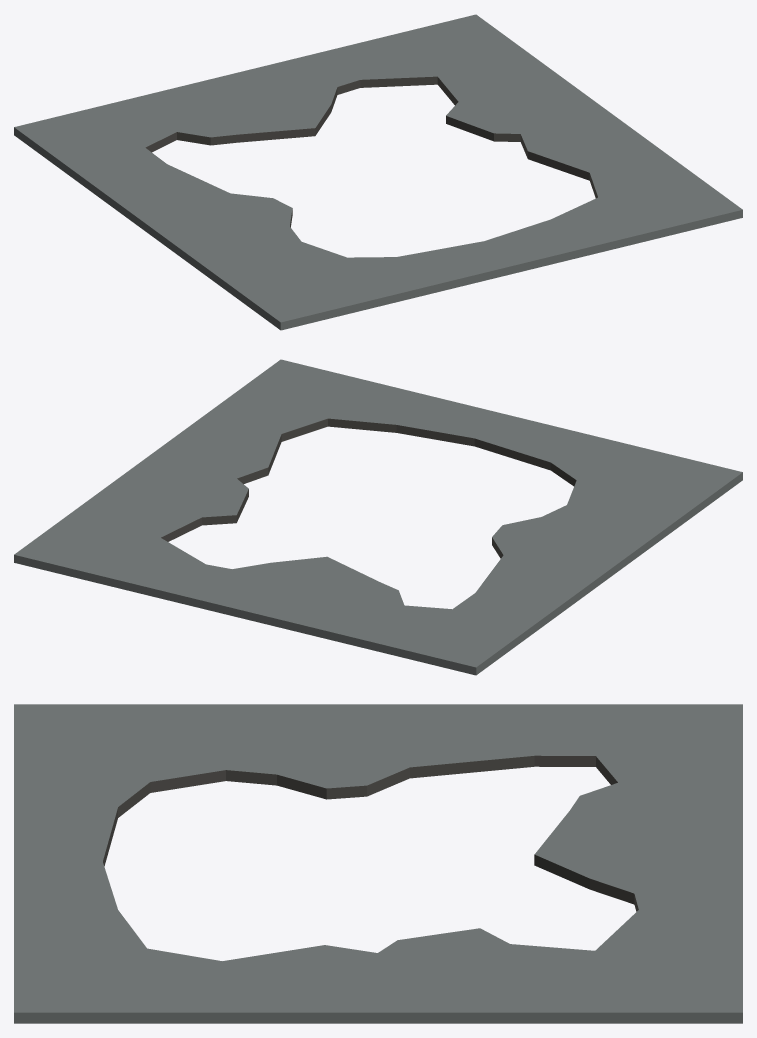
File: SM_Floor_Broken_3x3_C.gltf
3 views of the same model, one above another, from view 1: azimuth 30°, elevation 25°; view 2: azimuth 150°, elevation 25°; view 3: azimuth 270°, elevation 25° (orthographic). The views are drawn at different scales.
Visible parts, largest first — view 1: SM_Floor_Broken_3x3_C; view 2: SM_Floor_Broken_3x3_C; view 3: SM_Floor_Broken_3x3_C.
Part boxes in pixels (x1=…): SM_Floor_Broken_3x3_C: x1=14, y1=14, x2=742, y2=330; SM_Floor_Broken_3x3_C: x1=14, y1=359, x2=742, y2=675; SM_Floor_Broken_3x3_C: x1=14, y1=704, x2=742, y2=1023.
Size of the model in its own units: 3 by 0.05 by 3.
Materials: 1 (1 with a texture image).
